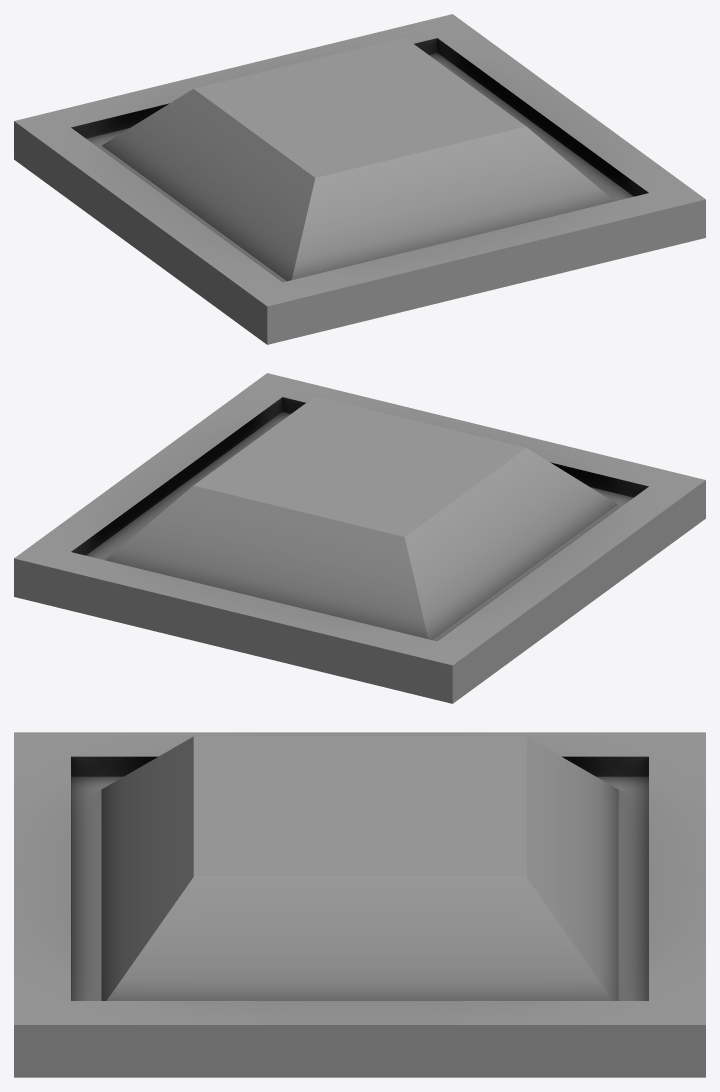
The model's file is button1.fbx.
3 renders of one model, top to bottom at view 1: azimuth 30°, elevation 25°; view 2: azimuth 150°, elevation 25°; view 3: azimuth 270°, elevation 25°, orthographic. The views are drawn at different scales.
Visible parts, largest first — view 1: Button, Button_Socket; view 2: Button, Button_Socket; view 3: Button, Button_Socket.
Boxes of the visible parts, x1,y1,x2,y2 form: Button: (101, 37, 614, 281); Button_Socket: (14, 14, 705, 344); Button: (105, 396, 618, 640); Button_Socket: (14, 373, 705, 703); Button: (101, 736, 618, 1000); Button_Socket: (14, 732, 705, 1077).
Bounding box in the file's own units: 200 × 39.69 × 200.
Materials: 1 (1 with a texture image).
